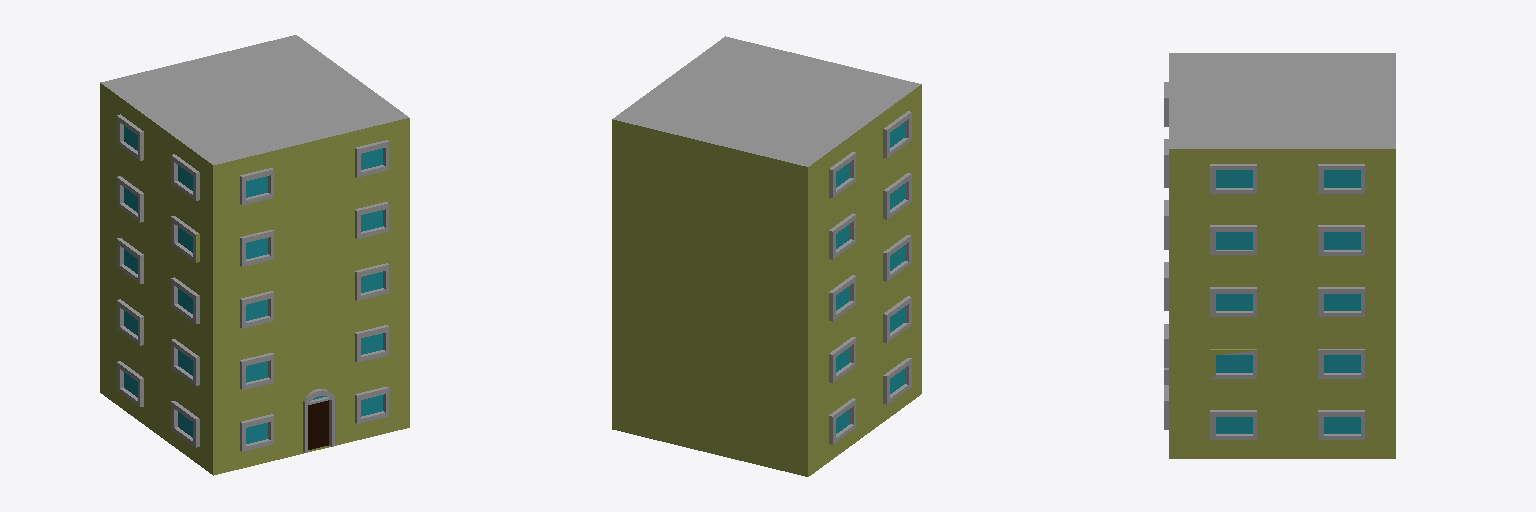
File: predio1.obj
The picture shows the model from 3 angles: view 1: azimuth 30°, elevation 25°; view 2: azimuth 150°, elevation 25°; view 3: azimuth 270°, elevation 25°; orthographic projection.
Parts seen in each view (by area): view 1: predio; view 2: predio; view 3: predio.
Boxes of the visible parts, x1=… form: predio: x1=100, y1=35, x2=409, y2=475; predio: x1=612, y1=36, x2=921, y2=476; predio: x1=1164, y1=53, x2=1395, y2=458.
Bounding box in the file's own units: 1.04 × 1.51 × 1.02.